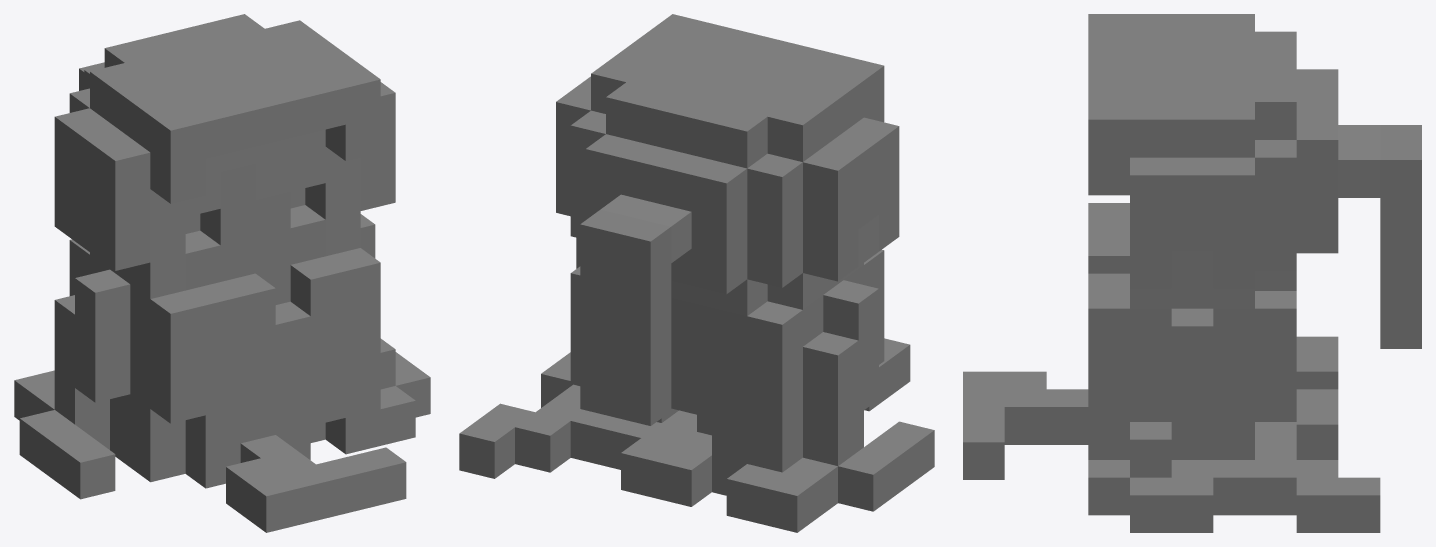
Rendered from alien_infected3.obj.
3 views of the same model, side by side, from view 1: azimuth 30°, elevation 25°; view 2: azimuth 150°, elevation 25°; view 3: azimuth 270°, elevation 25° (orthographic). The views are drawn at different scales.
Bounding box in the file's own units: 10 × 10 × 11.
